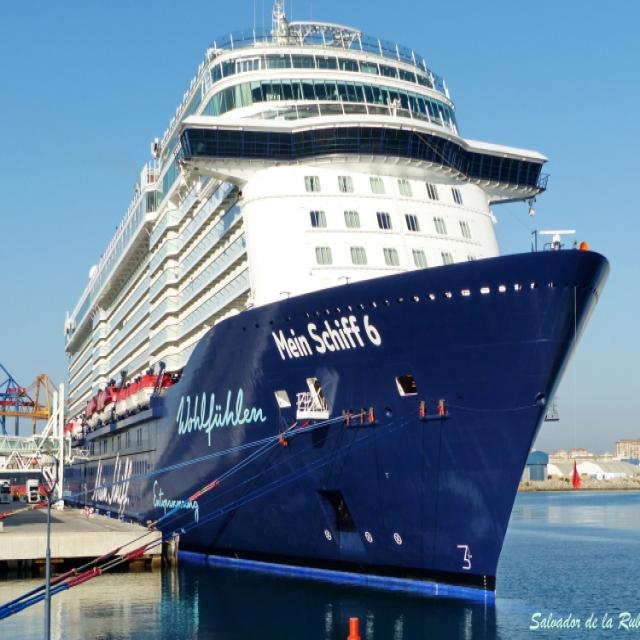cruises: (59, 1, 616, 615)
